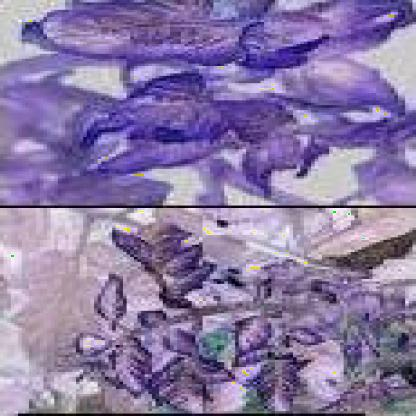tomato leaf yellow virus: (36, 5, 358, 64), (116, 100, 297, 157), (137, 64, 232, 105), (98, 272, 134, 328), (116, 335, 152, 389), (166, 240, 210, 284), (232, 318, 268, 365)
